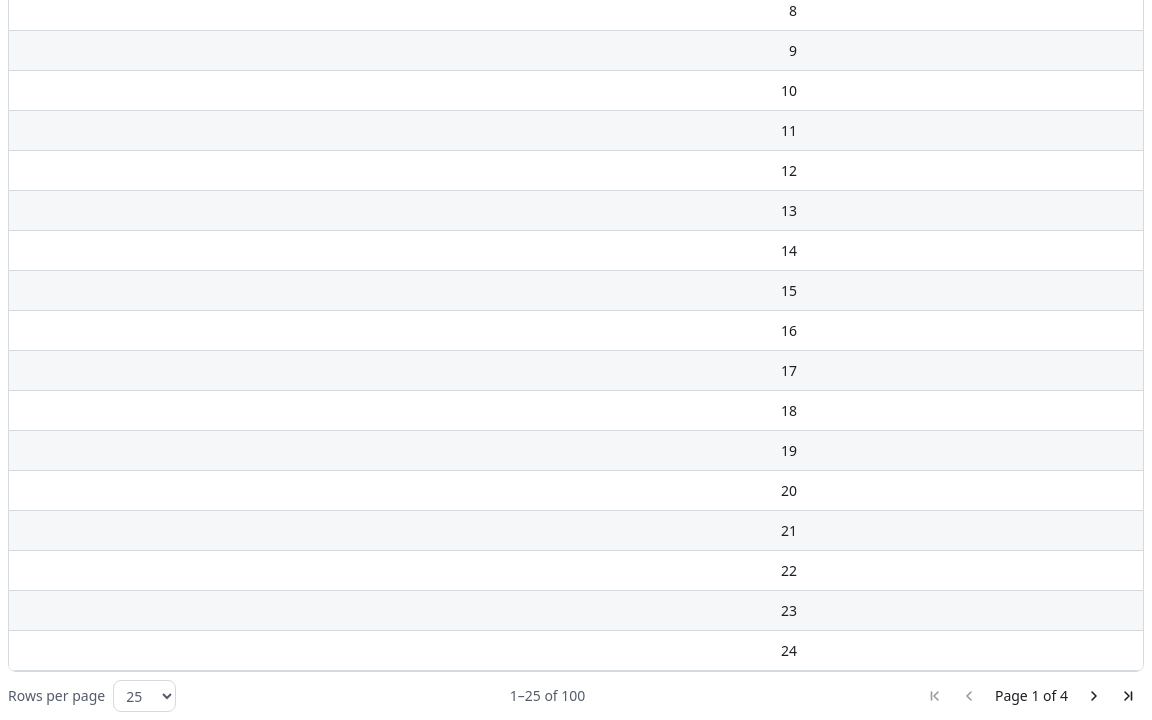
edge cases never crash (SC-005) › page size change keeps the first visible record on screen
The image size is (1152, 720).
(page scrolled)
Click the button named "Next page": (1094, 696) [1078, 680, 1110, 712]
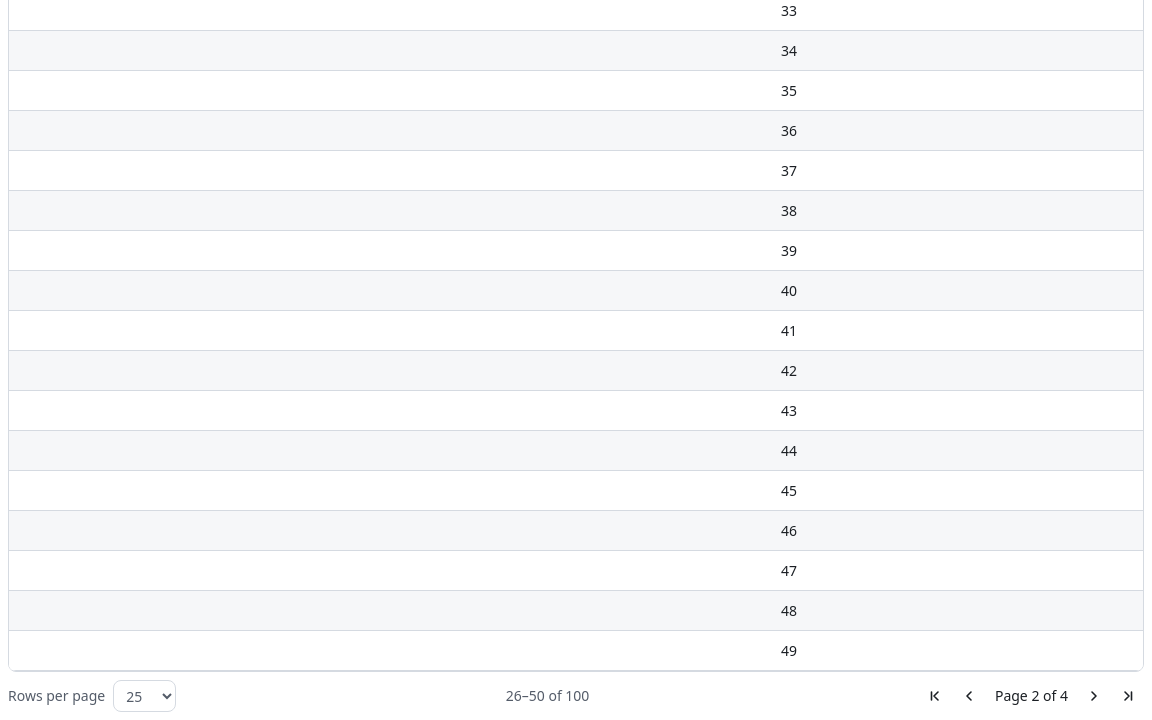
Click the button named "Next page": (1094, 696) [1078, 680, 1110, 712]
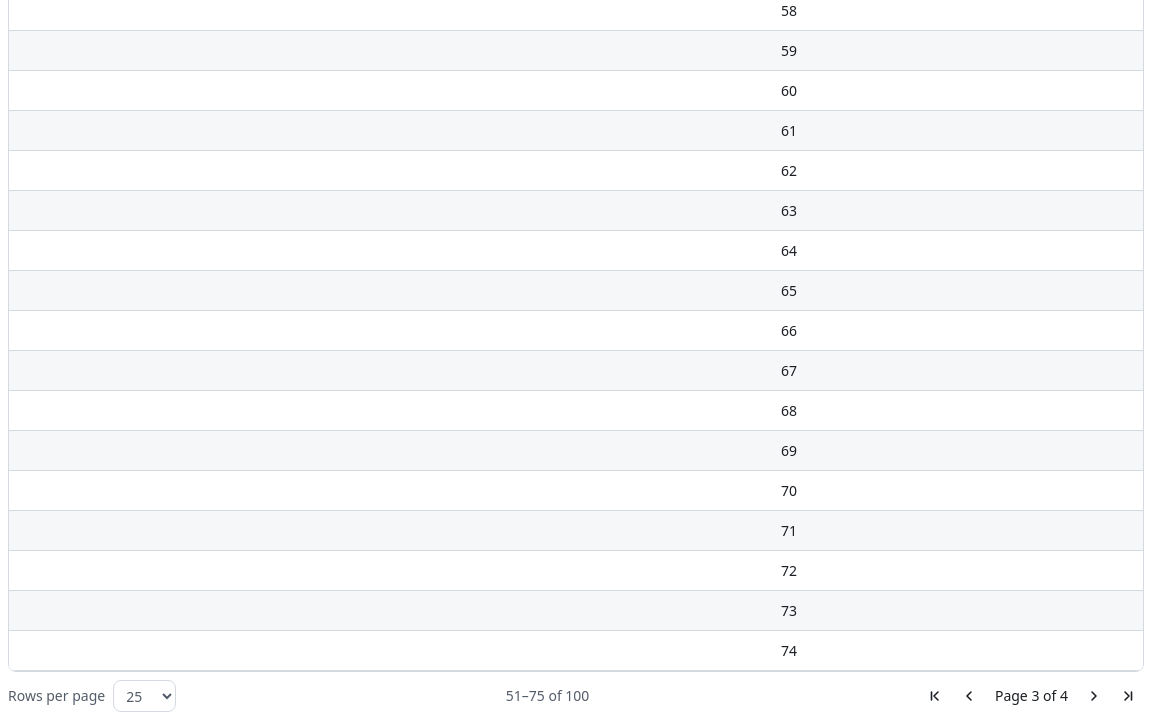
Click the button named "Next page": (1094, 696) [1078, 680, 1110, 712]
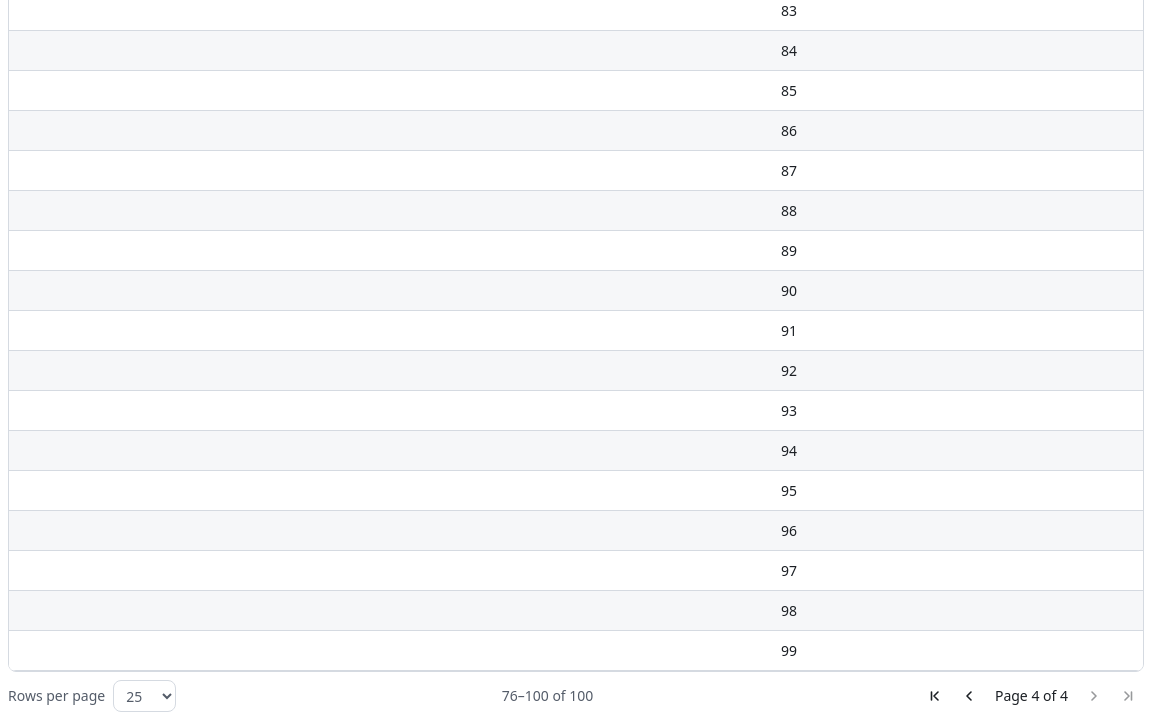
Select "50" in the dropdown labelled "Rows per page": (145, 696) [113, 680, 176, 712]
(page scrolled)
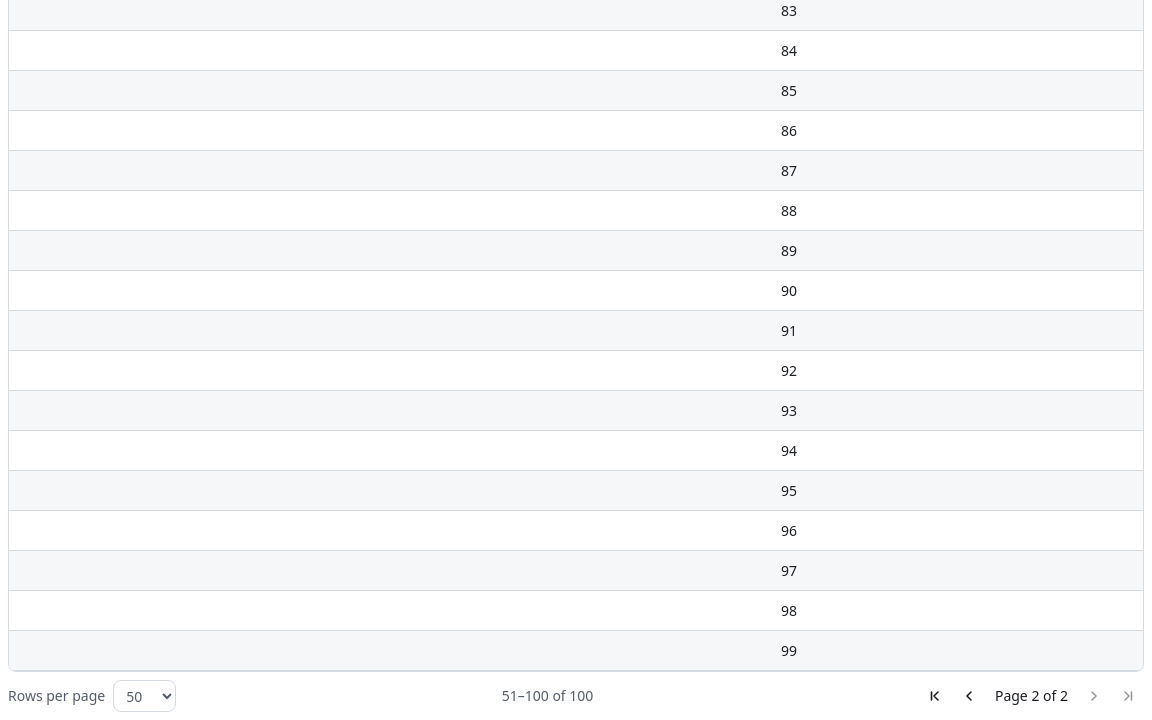
expect the text "51–100 of 100" is shown: met, box [502, 686, 593, 706]
